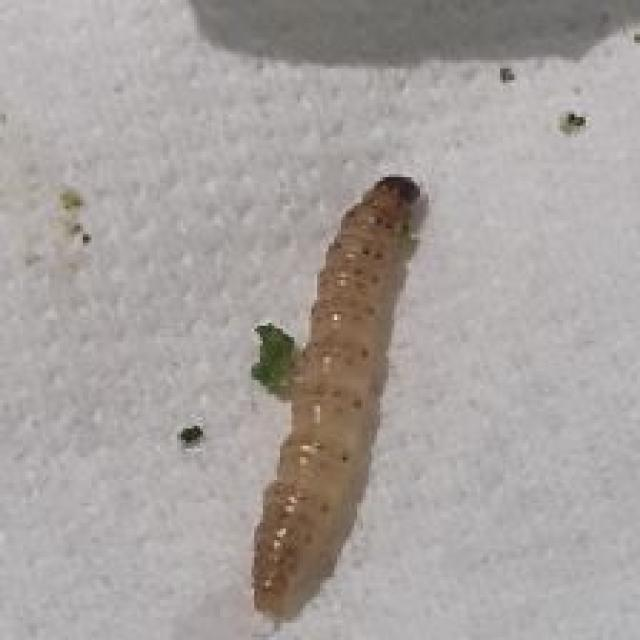white mucus: (239, 155, 466, 620)
